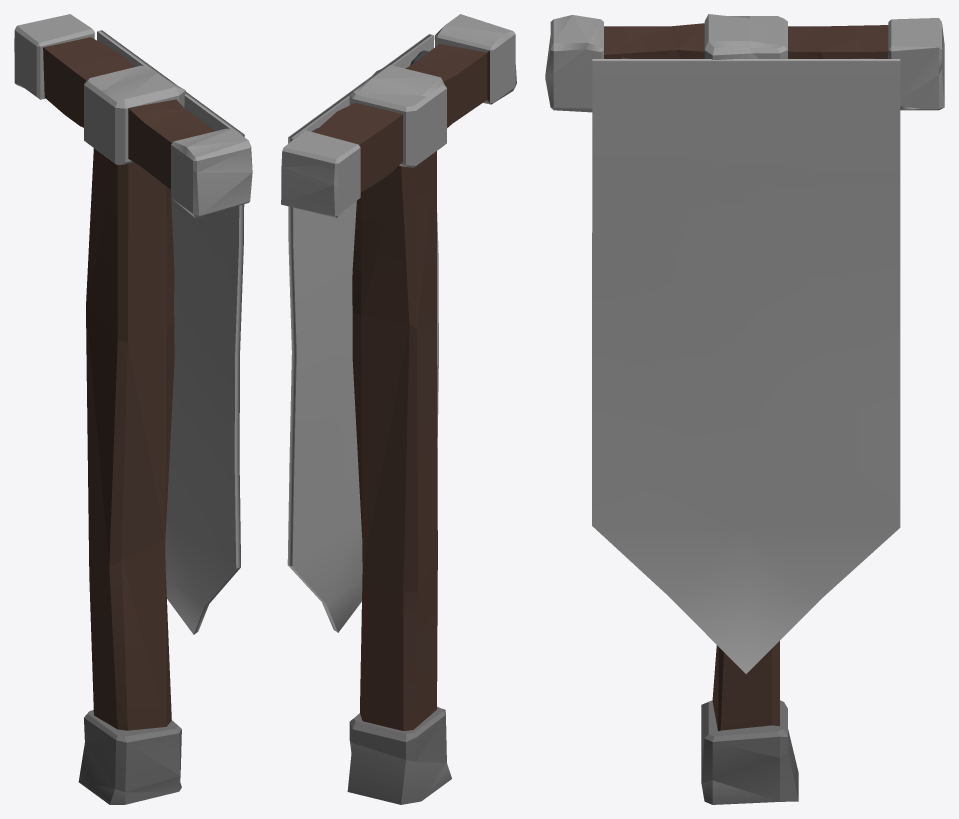
Rendered from etendard.fbx.
3 views of the same model, side by side, from view 1: azimuth 30°, elevation 25°; view 2: azimuth 150°, elevation 25°; view 3: azimuth 270°, elevation 25° (orthographic). The views are drawn at different scales.
Visible parts, largest first — view 1: Scene_ReadyToShade_Lucas:Attache, Scene_ReadyToShade_Lucas:Drap; view 2: Scene_ReadyToShade_Lucas:Attache, Scene_ReadyToShade_Lucas:Drap; view 3: Scene_ReadyToShade_Lucas:Drap, Scene_ReadyToShade_Lucas:Attache.
Part boxes in pixels (box(x1,y1,x2,y2)): Scene_ReadyToShade_Lucas:Attache: box(14, 14, 252, 804); Scene_ReadyToShade_Lucas:Drap: box(97, 30, 244, 634); Scene_ReadyToShade_Lucas:Attache: box(281, 14, 516, 804); Scene_ReadyToShade_Lucas:Drap: box(287, 34, 438, 632); Scene_ReadyToShade_Lucas:Drap: box(592, 59, 900, 673); Scene_ReadyToShade_Lucas:Attache: box(545, 14, 944, 804).
Bounding box in the file's own units: 29.69 × 192 × 91.39.
